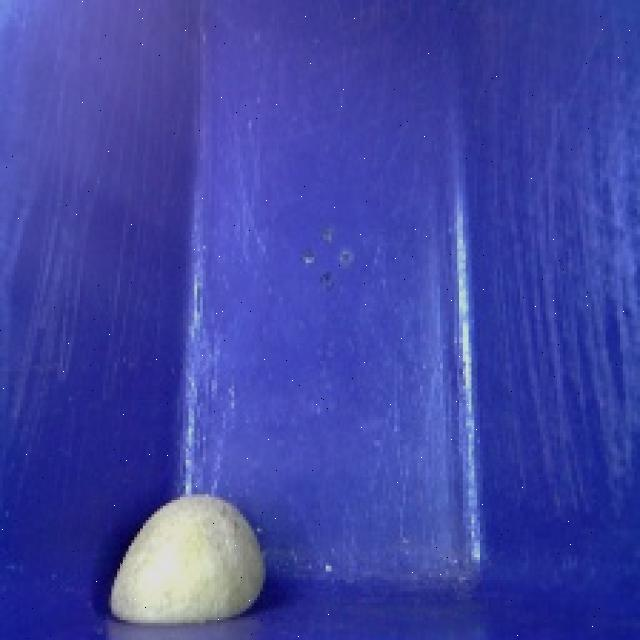potato: (91, 478, 278, 631)
